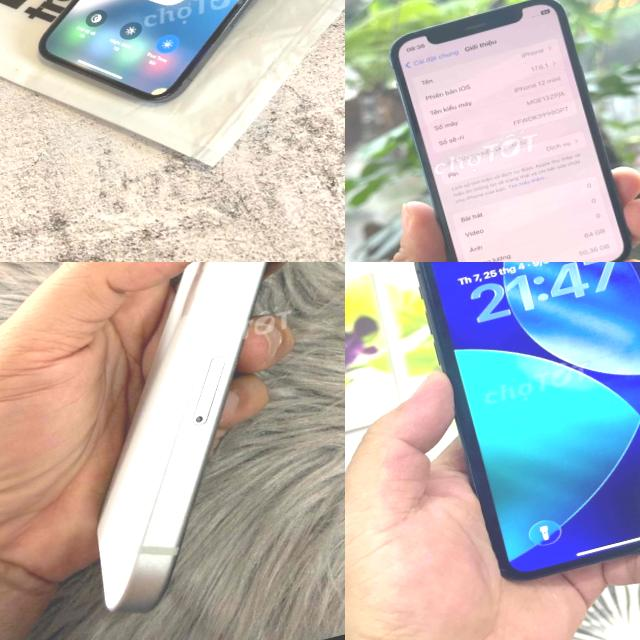scratch: (197, 268, 260, 337)
